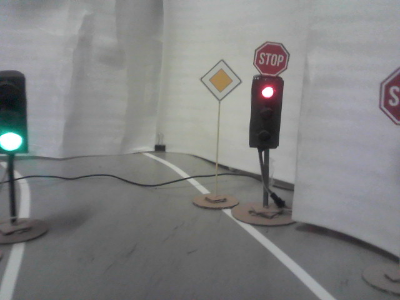priority_road: (201, 60, 241, 99)
stop: (254, 42, 289, 75)
trafficlight_green: (1, 76, 25, 153)
trafficlight_red: (253, 79, 279, 148)
